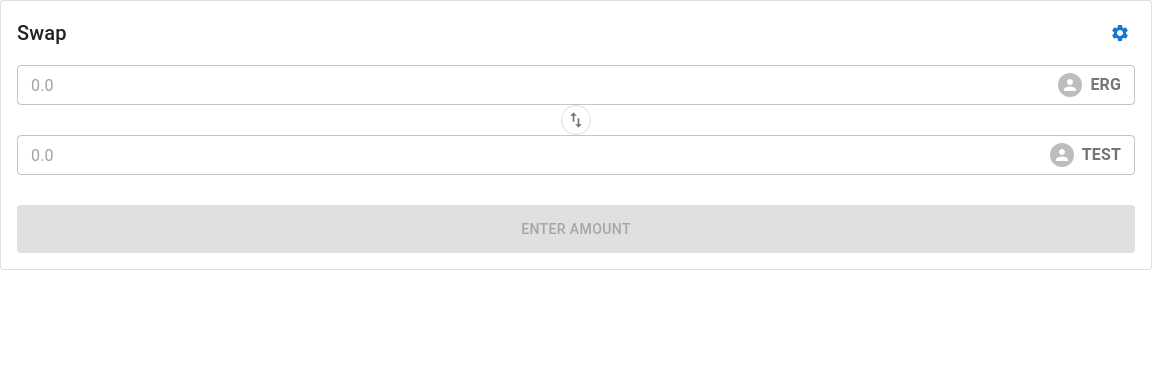
Test case: SwapWidget › Output Mode (Reverse Swap) › populates From field with input_amount from response in output mode
Expected: the heading "Swap" is shown, [17, 17, 67, 49]
Type "100" into the field with placeholder "0.0" next to "TEST" at point(533, 155), box [17, 135, 1050, 175]
Wait 600 ms
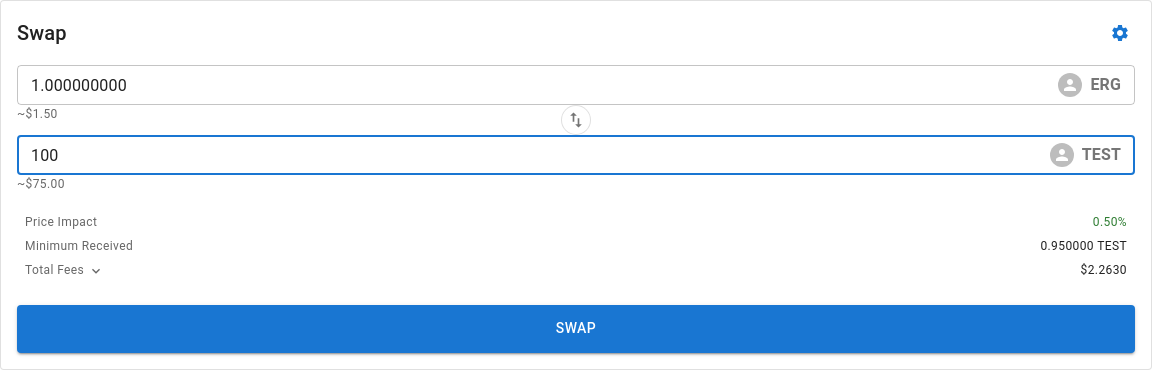
Expected: the field with placeholder "0.0" next to "ERG" holds "1.000000000", [17, 65, 1058, 105]
